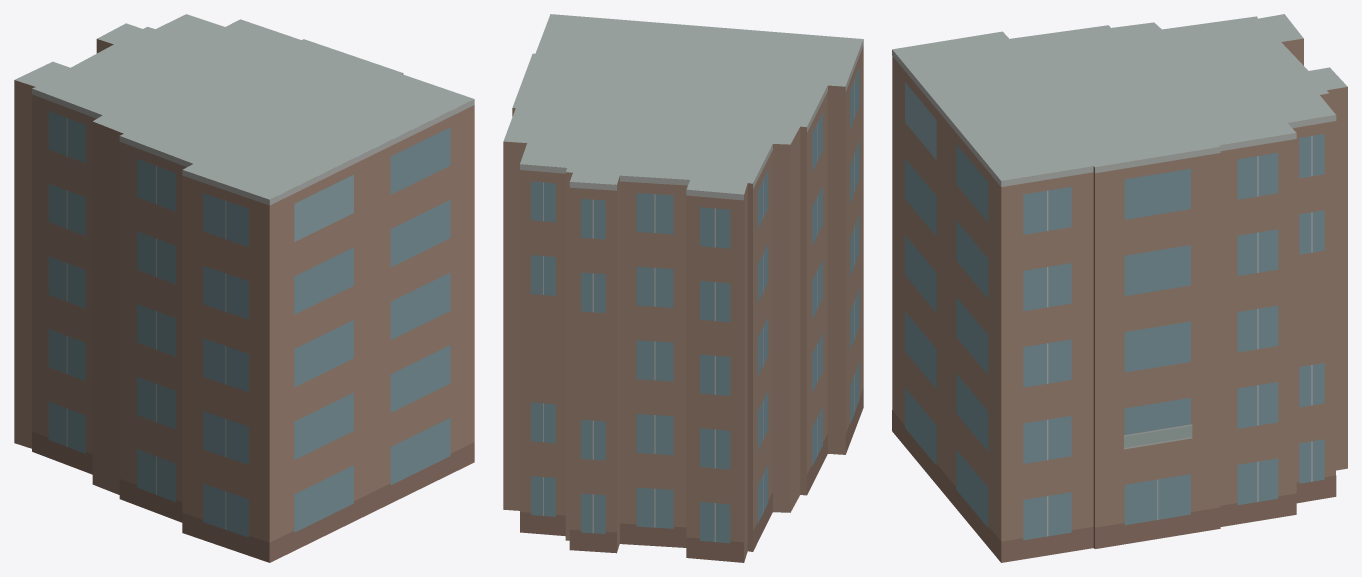
File: survey-upis-33038629.glb
3 renders of one model, left to right at view 1: azimuth 30°, elevation 25°; view 2: azimuth 150°, elevation 25°; view 3: azimuth 270°, elevation 25°, orthographic. The views are drawn at different scales.
Parts seen in each view (by area): view 1: survey-upis-33038629.tmp; view 2: survey-upis-33038629.tmp; view 3: survey-upis-33038629.tmp.
Boxes of the visible parts, <box> form: survey-upis-33038629.tmp: <box>14,14,474,562</box>; survey-upis-33038629.tmp: <box>503,14,863,562</box>; survey-upis-33038629.tmp: <box>892,14,1347,562</box>.
Size of the model in its own units: 14.41 by 15.35 by 16.61.
